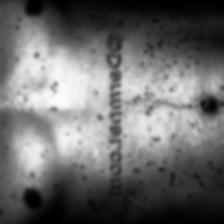Non-Cancerous Skin Condition: (134, 7, 224, 223), (16, 21, 61, 116), (64, 153, 100, 224), (81, 0, 102, 70), (103, 199, 125, 224)
